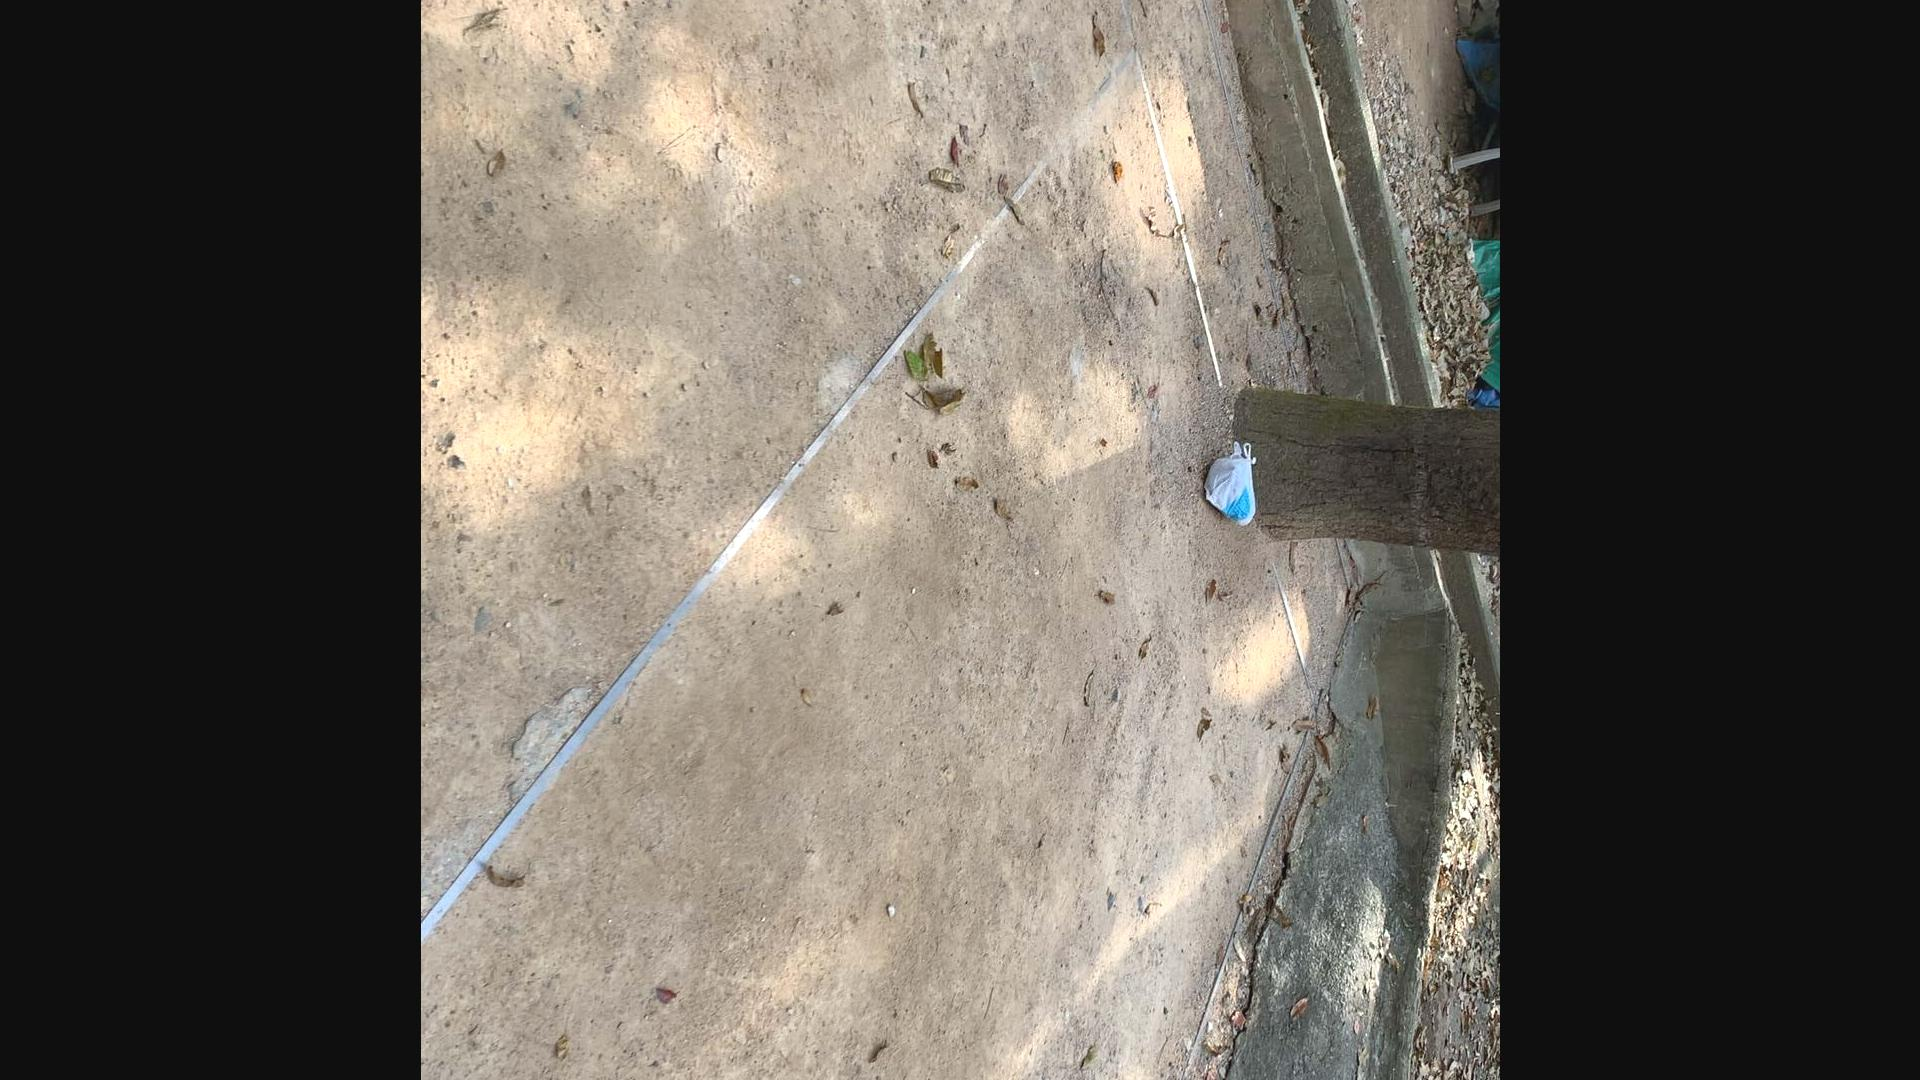white_bag: (1197, 438, 1261, 527)
